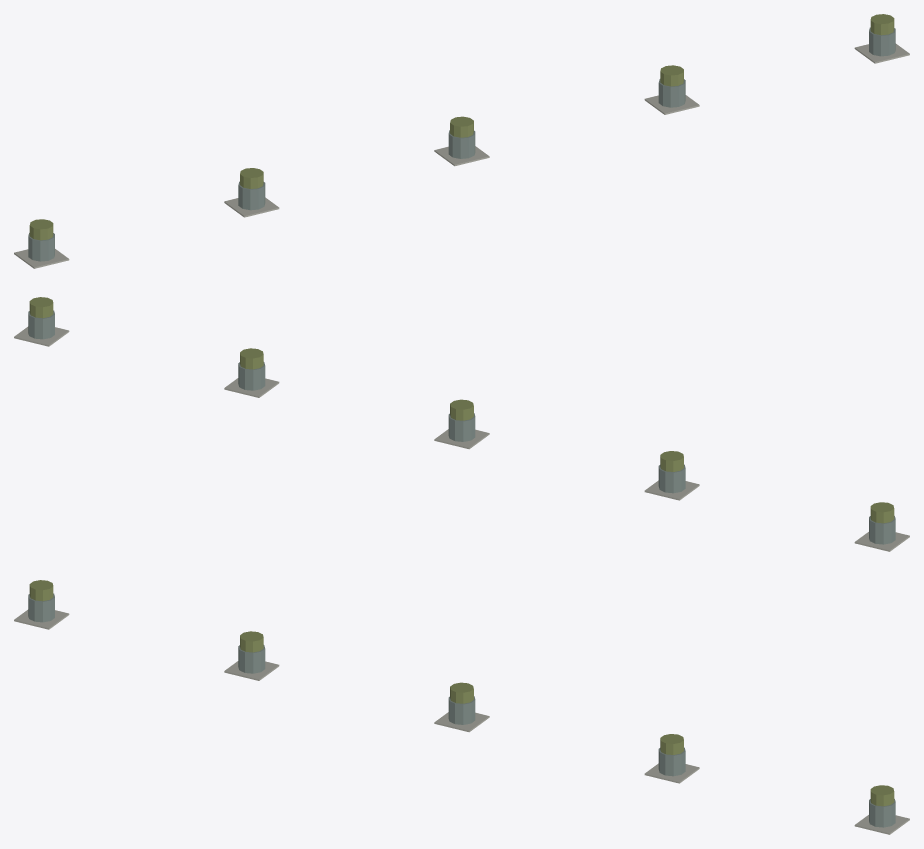
Rendered from SM_Balizas_v1_Verdes_LOD0.fbx.
3 renders of one model, top to bottom at view 1: azimuth 30°, elevation 25°; view 2: azimuth 150°, elevation 25°; view 3: azimuth 330°, elevation 25°, orthographic.
Parts seen in each view (by area): view 1: SM_ambiente_aerodromo_v6_LOD0; view 2: SM_ambiente_aerodromo_v6_LOD0; view 3: SM_ambiente_aerodromo_v6_LOD0.
Part boxes in pixels (x1,y1,x2,y2): SM_ambiente_aerodromo_v6_LOD0: (14, 14, 909, 268); SM_ambiente_aerodromo_v6_LOD0: (14, 297, 909, 551); SM_ambiente_aerodromo_v6_LOD0: (14, 580, 909, 834).
Size of the model in its own units: 12.5 by 0.45 by 0.5.
